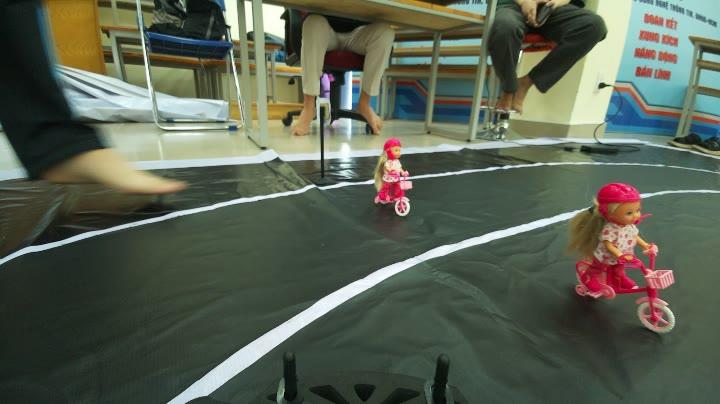pedestrian: (560, 174, 682, 338), (356, 128, 415, 222)
